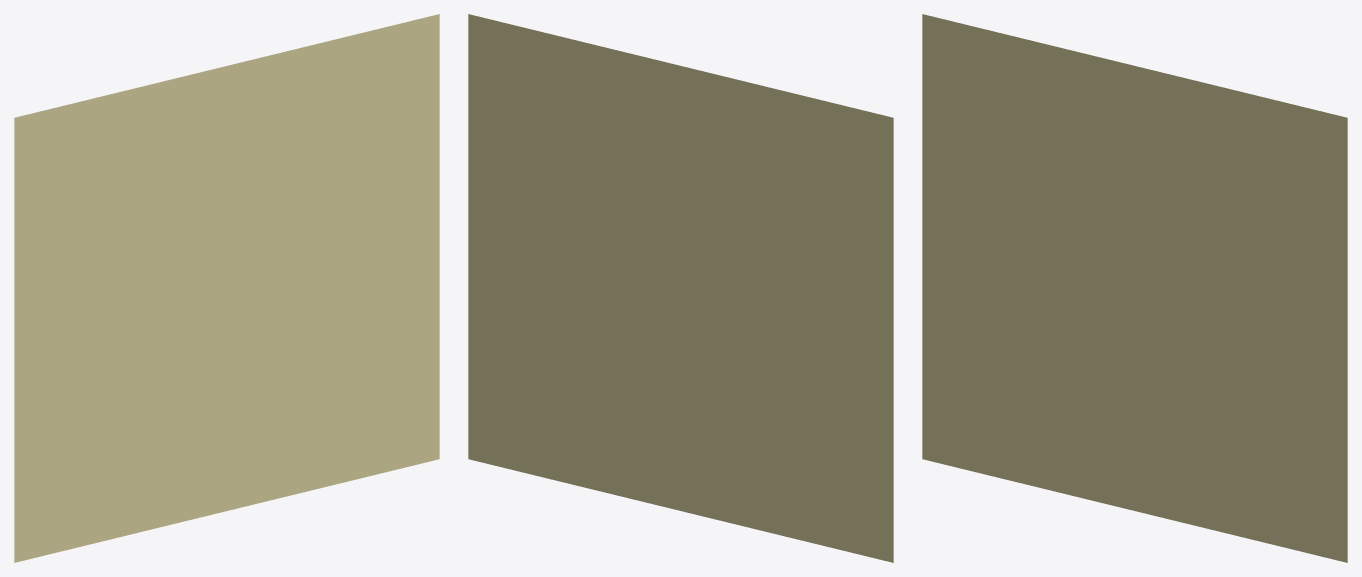
The model's file is cloth.obj.
The picture shows the model from 3 angles, left to right: view 1: azimuth 30°, elevation 25°; view 2: azimuth 150°, elevation 25°; view 3: azimuth 330°, elevation 25°; orthographic projection.
Visible parts, largest first — view 1: Plane; view 2: Plane; view 3: Plane.
Part boxes in pixels (left/top/right/bottom): Plane: left=14, top=14, right=439, bottom=562; Plane: left=468, top=14, right=893, bottom=562; Plane: left=922, top=14, right=1347, bottom=562.
Bounding box in the file's own units: 2 × 2 × 0.
